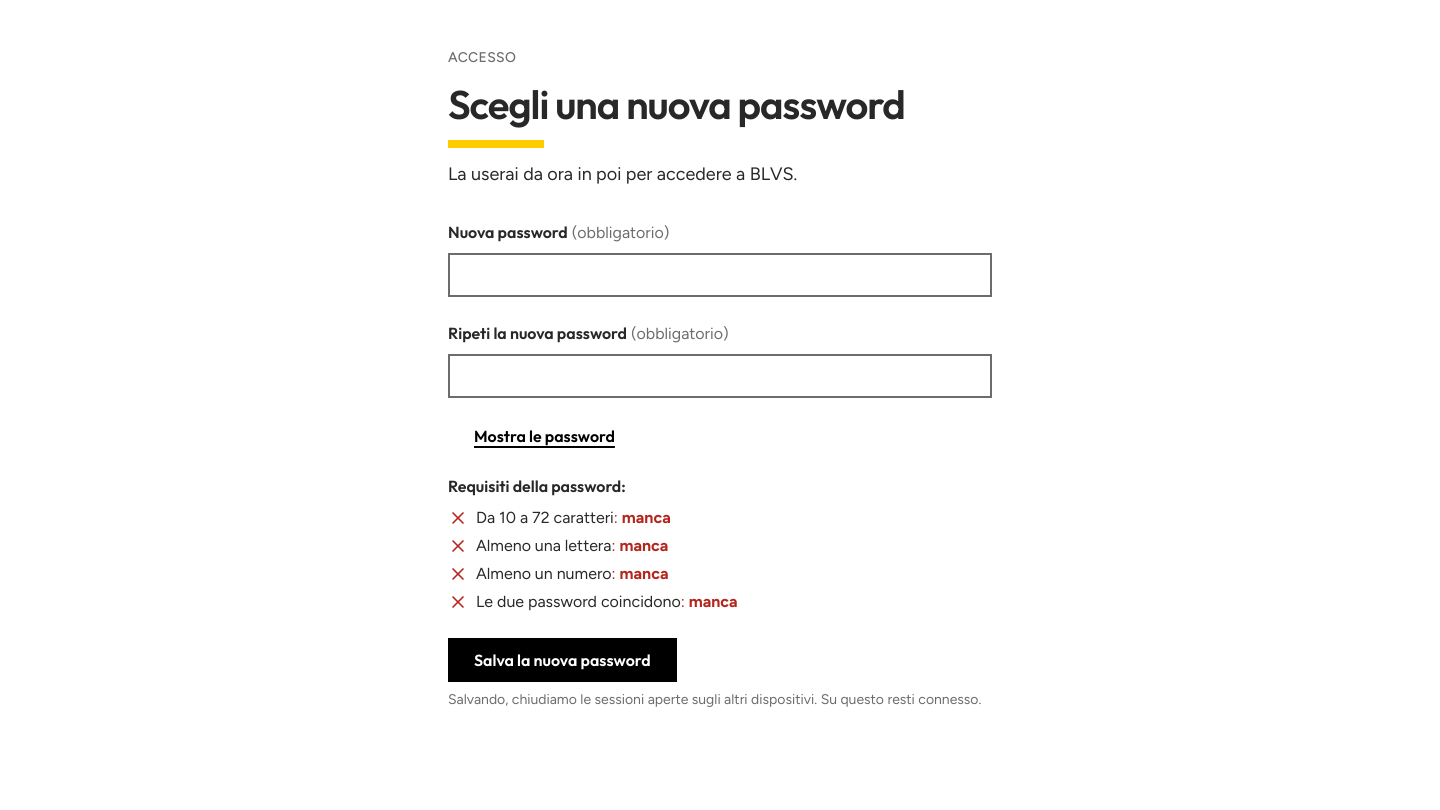
Scenario: w-reset › salva con il token, conferma con un avviso e va alla home
Type "Spiaggia-2026" into the password field labelled "Nuova password (obbligatorio)" at (720, 275), box top-left (448, 253), bottom-right (992, 297)
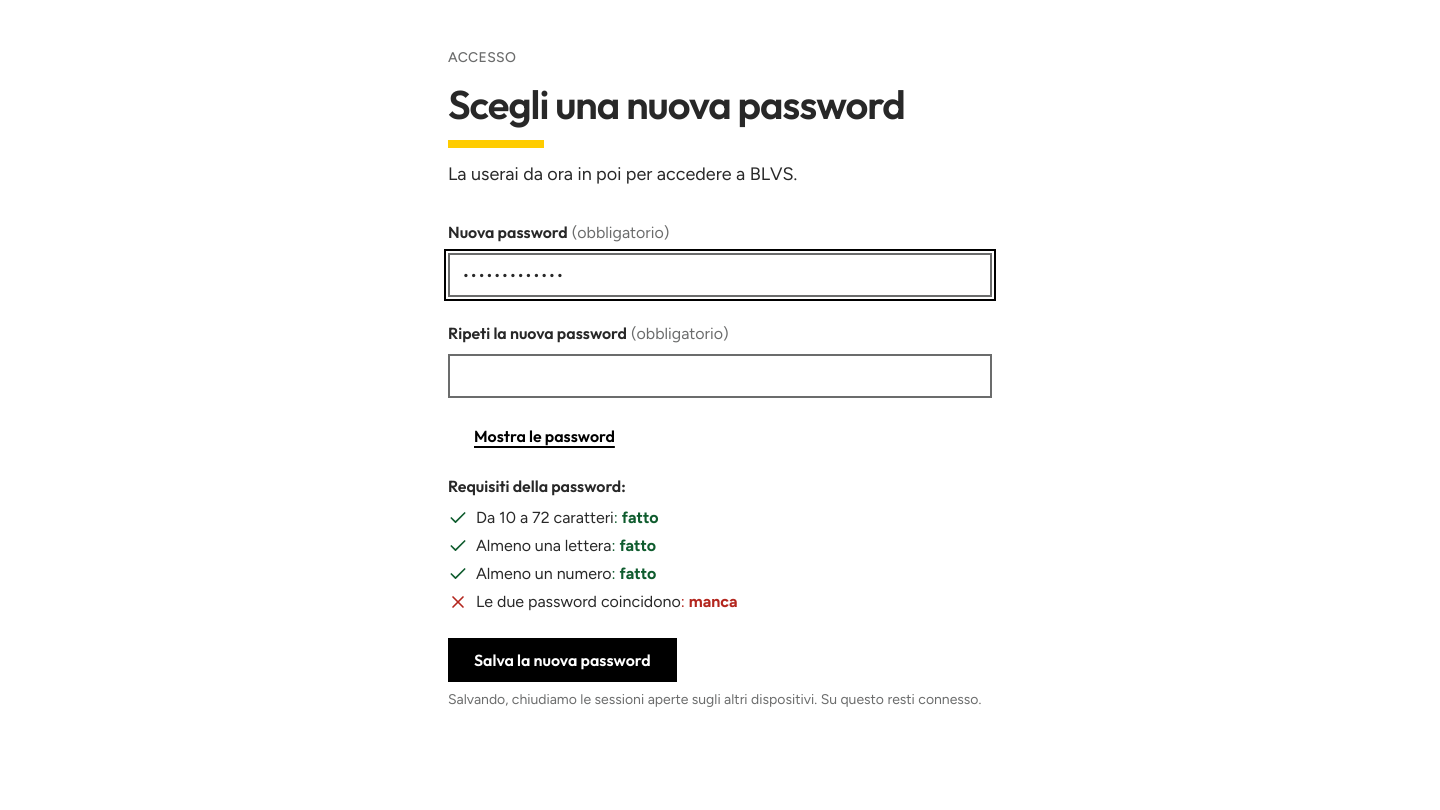
Type "Spiaggia-2026" into the password field labelled "Ripeti la nuova password (obbligatorio)" at (720, 376), box top-left (448, 354), bottom-right (992, 398)
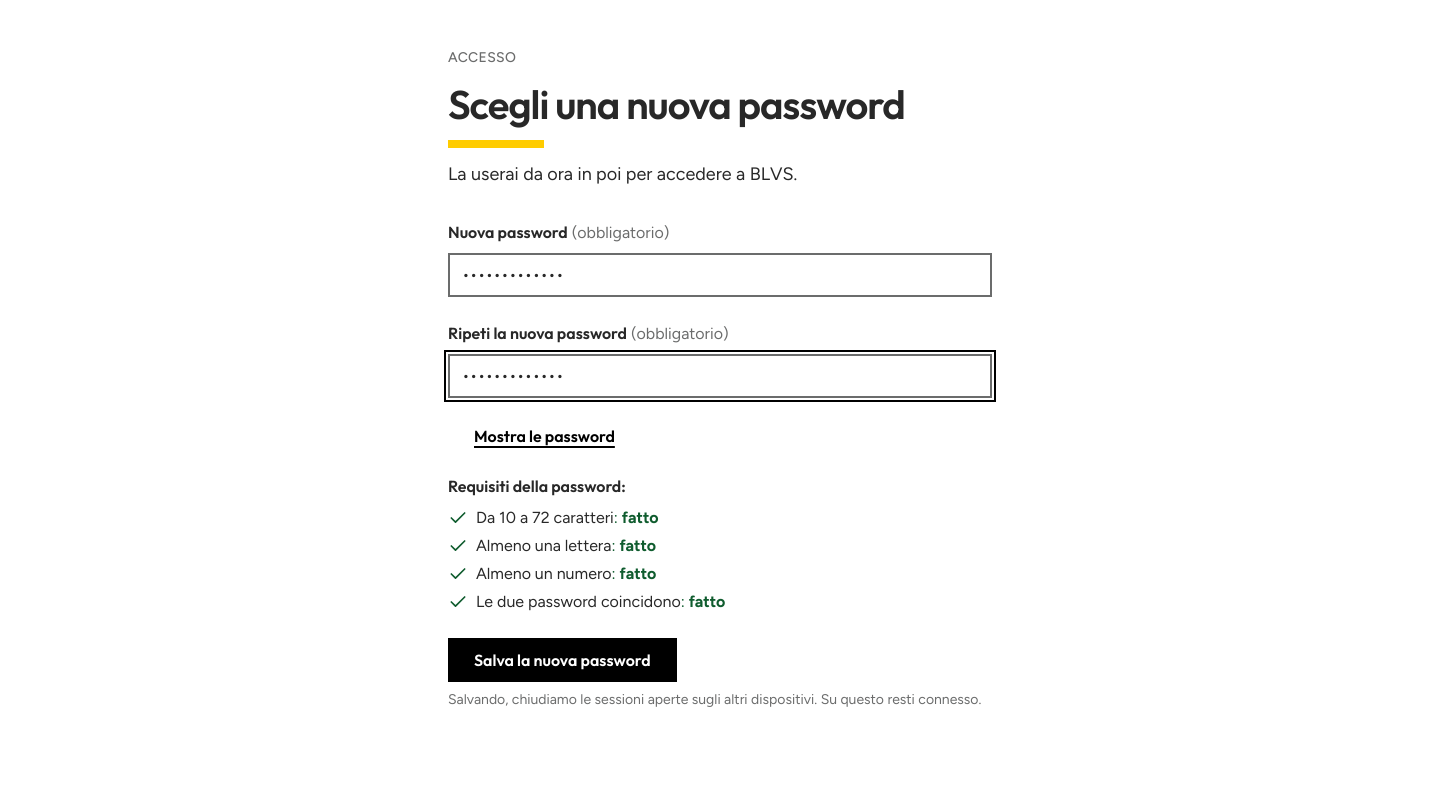
Press Enter
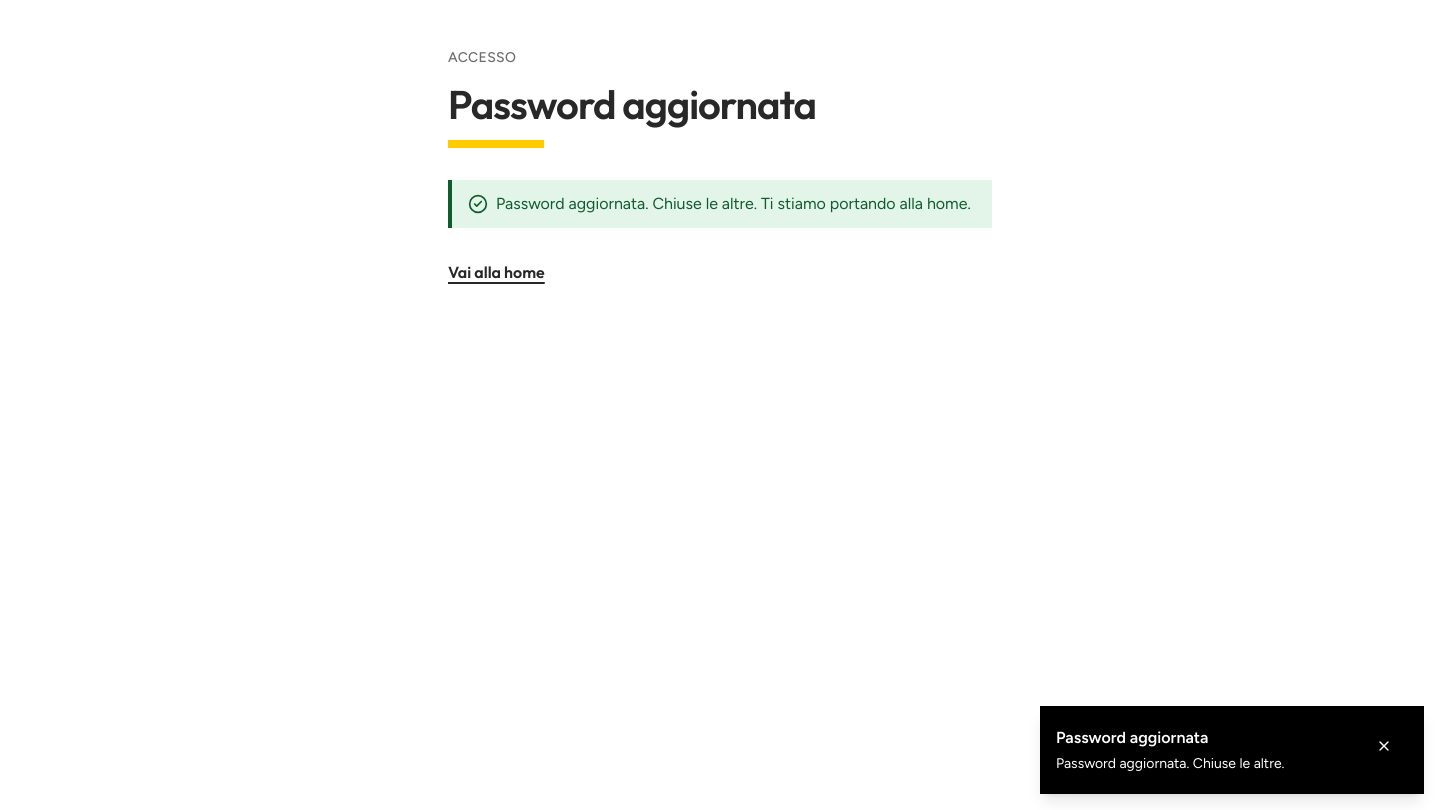
Check: the text "Password aggiornata. Chiuse le altre." is shown, box top-left (1056, 755), bottom-right (1284, 772)
